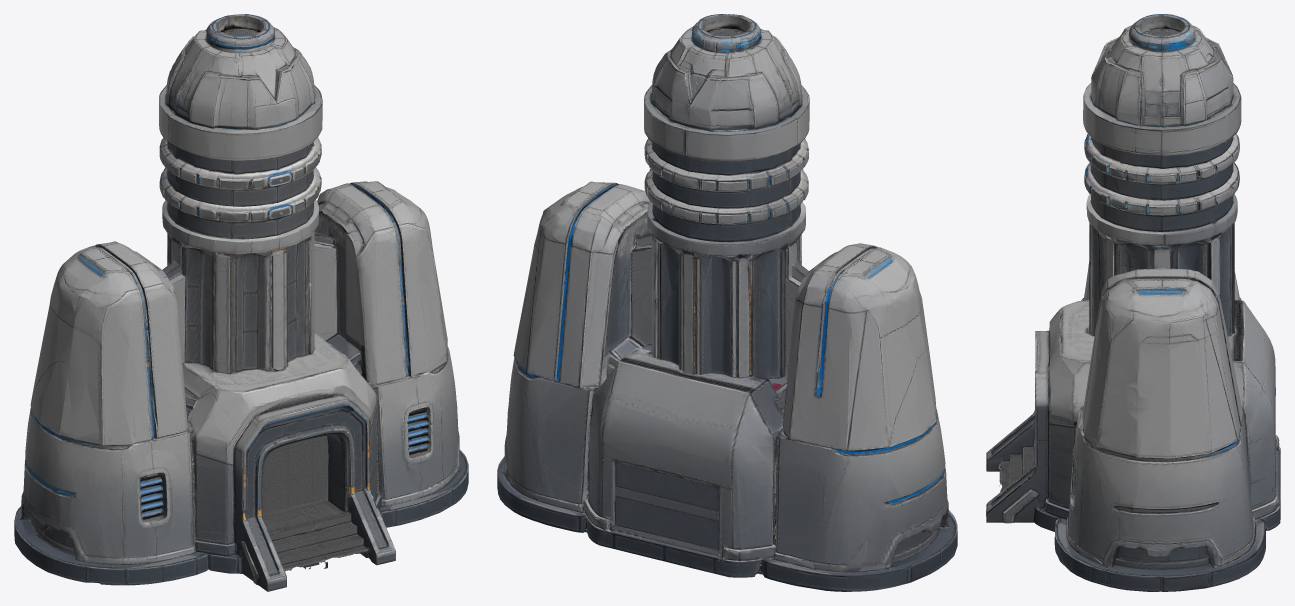
The model's file is tech-centre.glb.
The picture shows the model from 3 angles, left to right: view 1: azimuth 30°, elevation 25°; view 2: azimuth 150°, elevation 25°; view 3: azimuth 270°, elevation 25°; orthographic projection. The views are drawn at different scales.
Parts seen in each view (by area): view 1: mesh_node; view 2: mesh_node; view 3: mesh_node.
Boxes of the visible parts, <box> form: mesh_node: <box>14,14,468,591</box>; mesh_node: <box>497,14,957,591</box>; mesh_node: <box>986,14,1280,591</box>.
Bounding box in the file's own units: 1.73 × 1.9 × 1.09.
Materials: 1 (1 with a texture image).
